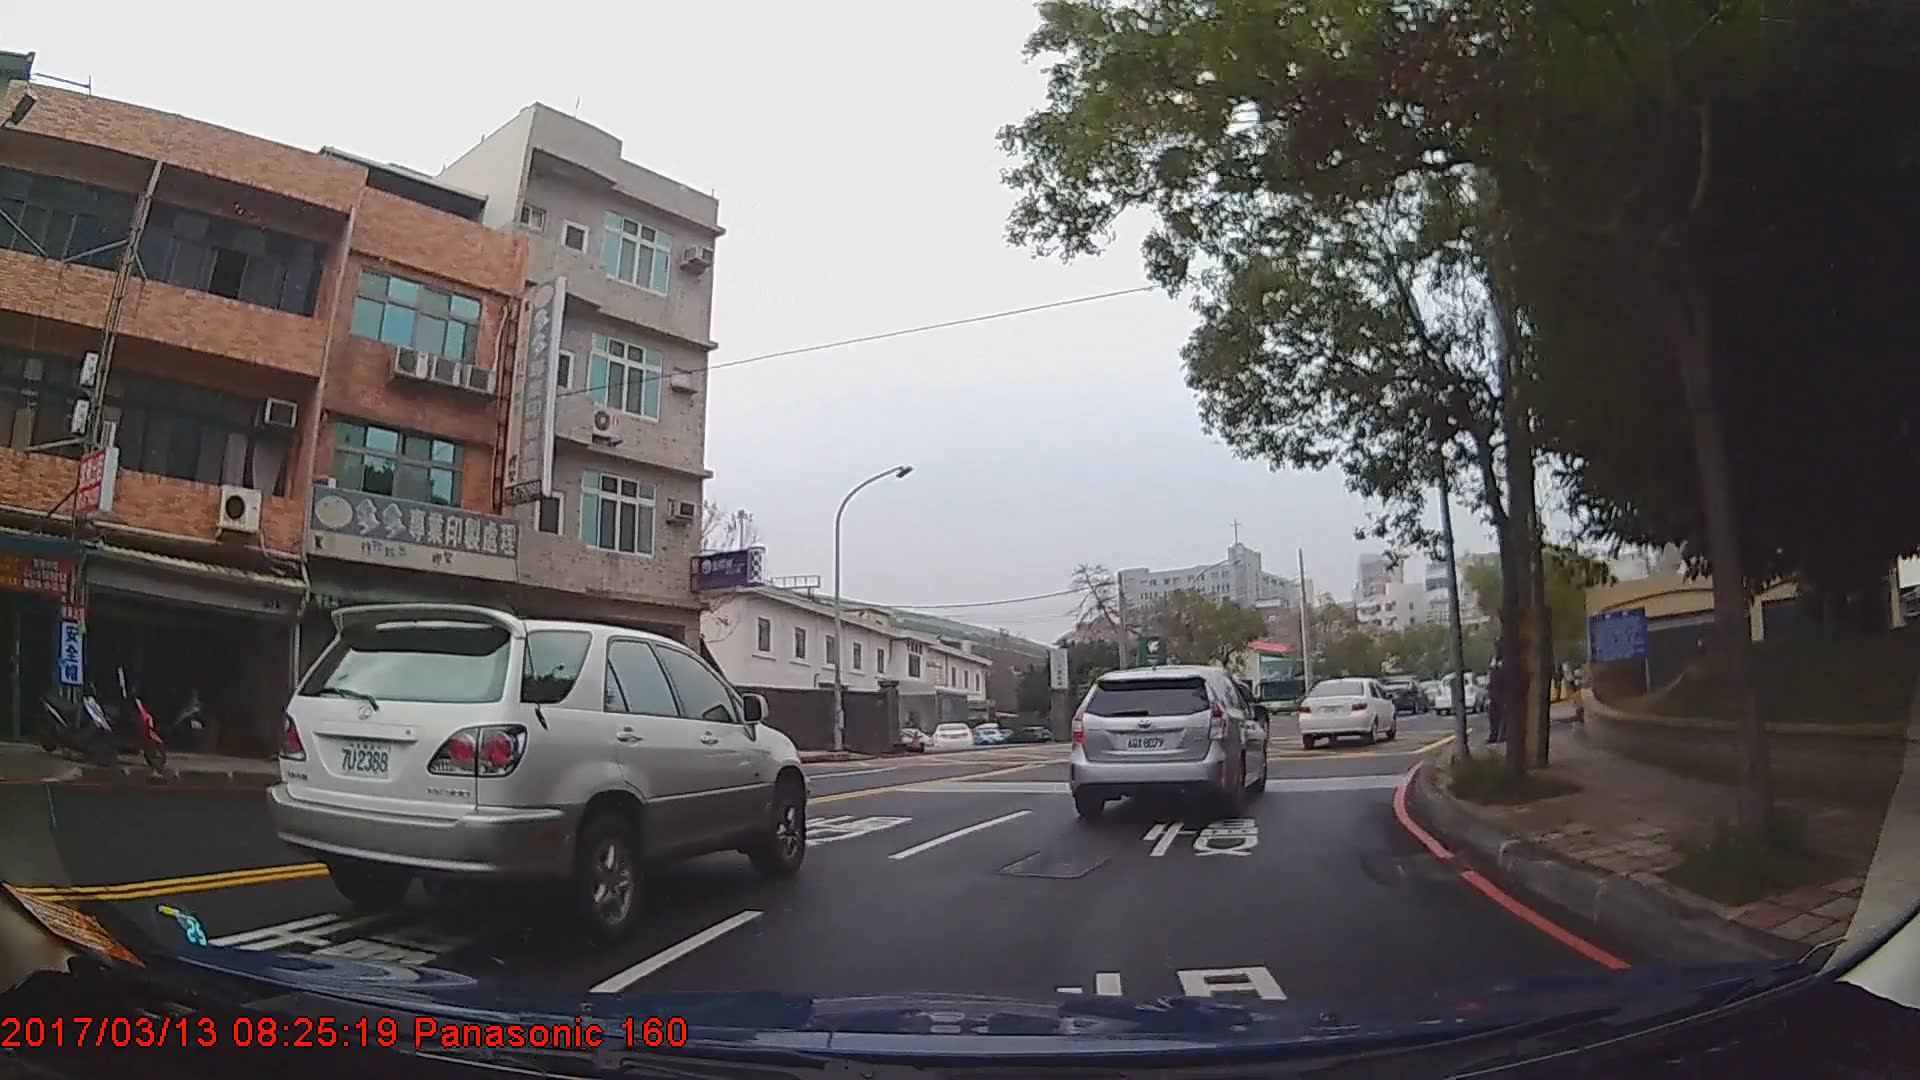pedestrian: (1487, 633, 1522, 746)
vehicle: (259, 601, 807, 947), (1064, 657, 1265, 810), (1295, 676, 1397, 744), (1429, 665, 1481, 713), (930, 720, 975, 749), (996, 724, 1051, 744)
